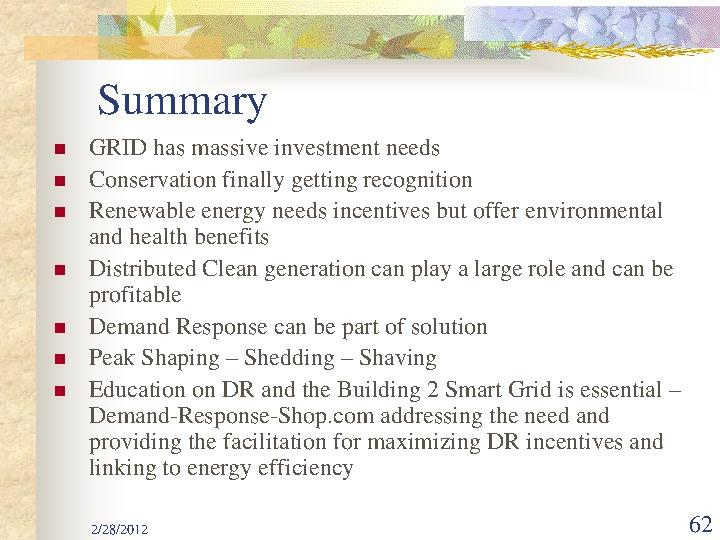paragraph: (74, 133, 706, 491)
title: (93, 73, 285, 129)
